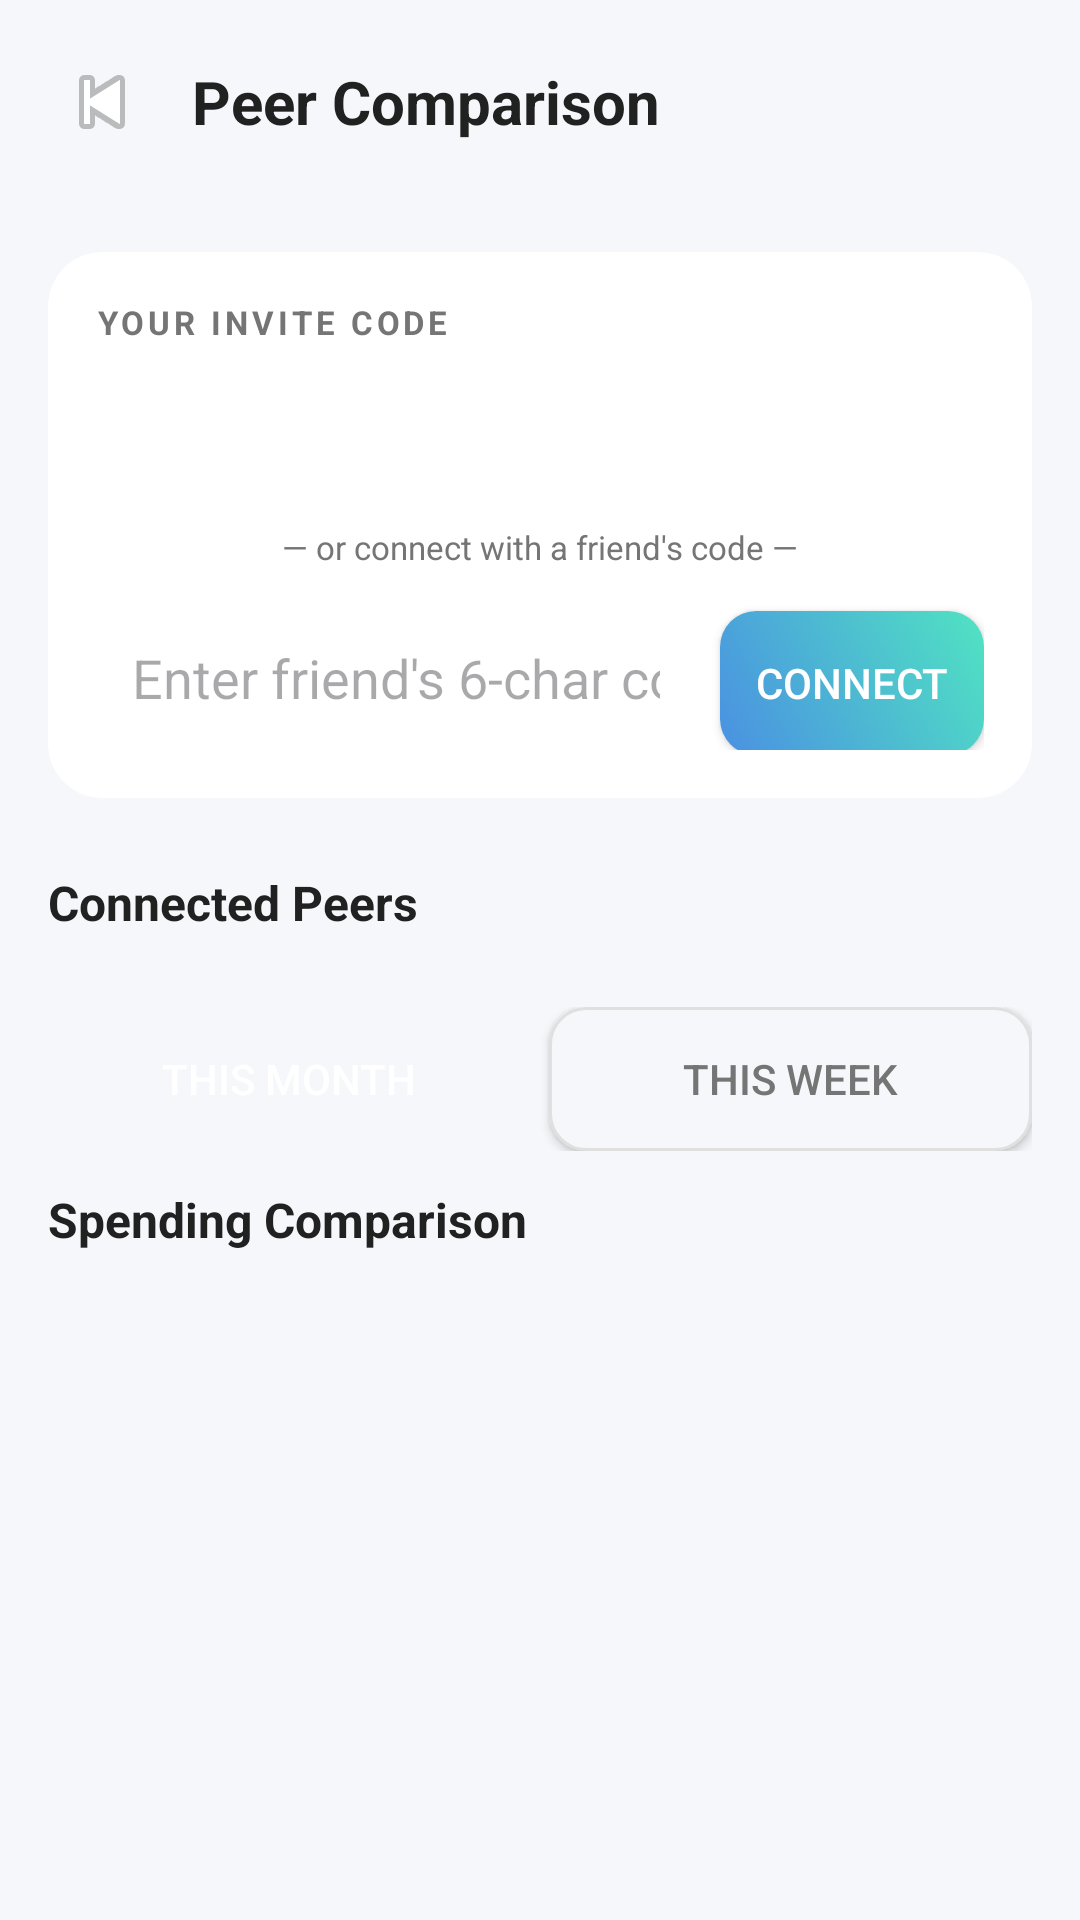

Icon click points for this 1080px x 1920px phone screenshot, format [x,y]:
Back: [102,102]
